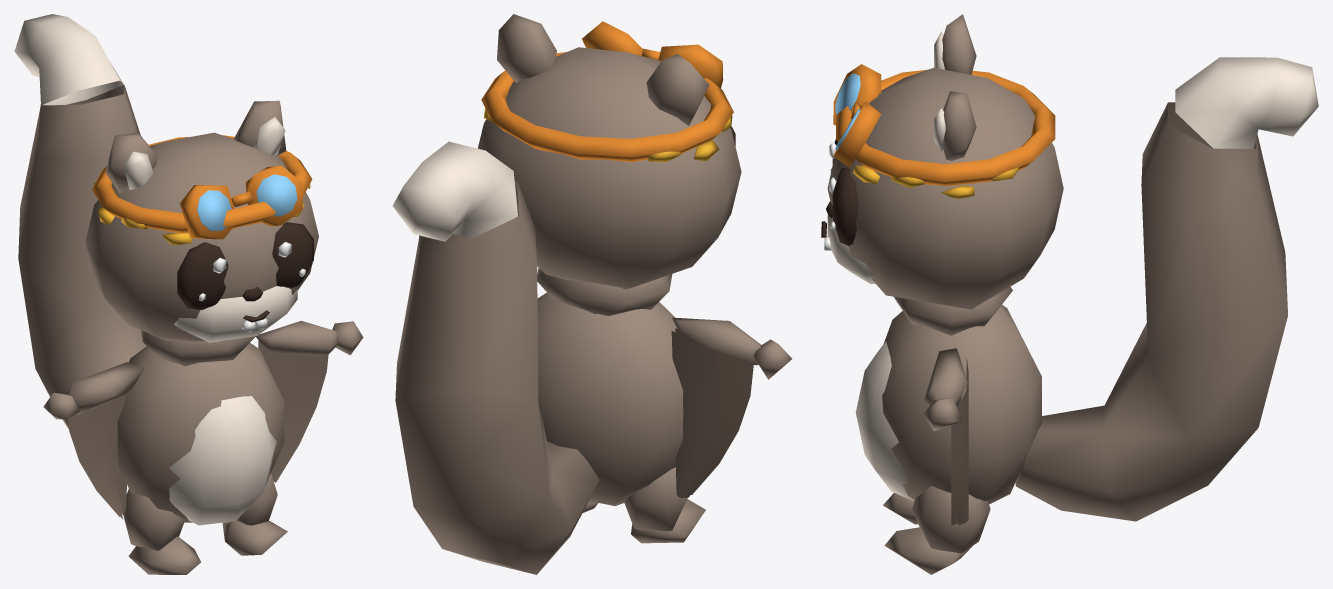
The model's file is compagnon_ecureuil.fbx.
3 views of the same model, side by side, from view 1: azimuth 30°, elevation 25°; view 2: azimuth 150°, elevation 25°; view 3: azimuth 270°, elevation 25° (orthographic). The views are drawn at different scales.
Parts seen in each view (by area): view 1: compagnon_ecureuil_Gris, compagnon_ecureuil_Creme, compagnon_ecureuil_Membranes, compagnon_ecureuil_Lunettes, compagnon_ecureuil_Brun, compagnon_ecureuil_Verres, compagnon_ecureuil_Or, compagnon_ecureuil_Blanc; view 2: compagnon_ecureuil_Gris, compagnon_ecureuil_Lunettes, compagnon_ecureuil_Creme, compagnon_ecureuil_Membranes, compagnon_ecureuil_Or; view 3: compagnon_ecureuil_Gris, compagnon_ecureuil_Creme, compagnon_ecureuil_Lunettes, compagnon_ecureuil_Membranes, compagnon_ecureuil_Brun, compagnon_ecureuil_Or, compagnon_ecureuil_Verres.
Part boxes in pixels (box(x1,y1,x2,y2)): compagnon_ecureuil_Gris: box(18, 85, 363, 574); compagnon_ecureuil_Creme: box(14, 14, 297, 525); compagnon_ecureuil_Membranes: box(68, 340, 328, 519); compagnon_ecureuil_Lunettes: box(92, 135, 312, 239); compagnon_ecureuil_Brun: box(177, 222, 313, 322); compagnon_ecureuil_Verres: box(197, 174, 297, 230); compagnon_ecureuil_Or: box(94, 182, 310, 245); compagnon_ecureuil_Blanc: box(199, 242, 305, 332); compagnon_ecureuil_Gris: box(395, 14, 791, 574); compagnon_ecureuil_Lunettes: box(481, 21, 733, 162); compagnon_ecureuil_Creme: box(392, 141, 517, 241); compagnon_ecureuil_Membranes: box(671, 328, 753, 498); compagnon_ecureuil_Or: box(483, 108, 732, 162); compagnon_ecureuil_Gris: box(827, 14, 1287, 574); compagnon_ecureuil_Creme: box(827, 31, 1318, 500); compagnon_ecureuil_Lunettes: box(833, 64, 1055, 186); compagnon_ecureuil_Membranes: box(951, 357, 968, 525); compagnon_ecureuil_Brun: box(821, 139, 858, 245); compagnon_ecureuil_Or: box(852, 165, 1018, 198); compagnon_ecureuil_Verres: box(835, 73, 860, 150).
Bounding box in the file's own units: 1.43 × 1.9 × 1.77.
